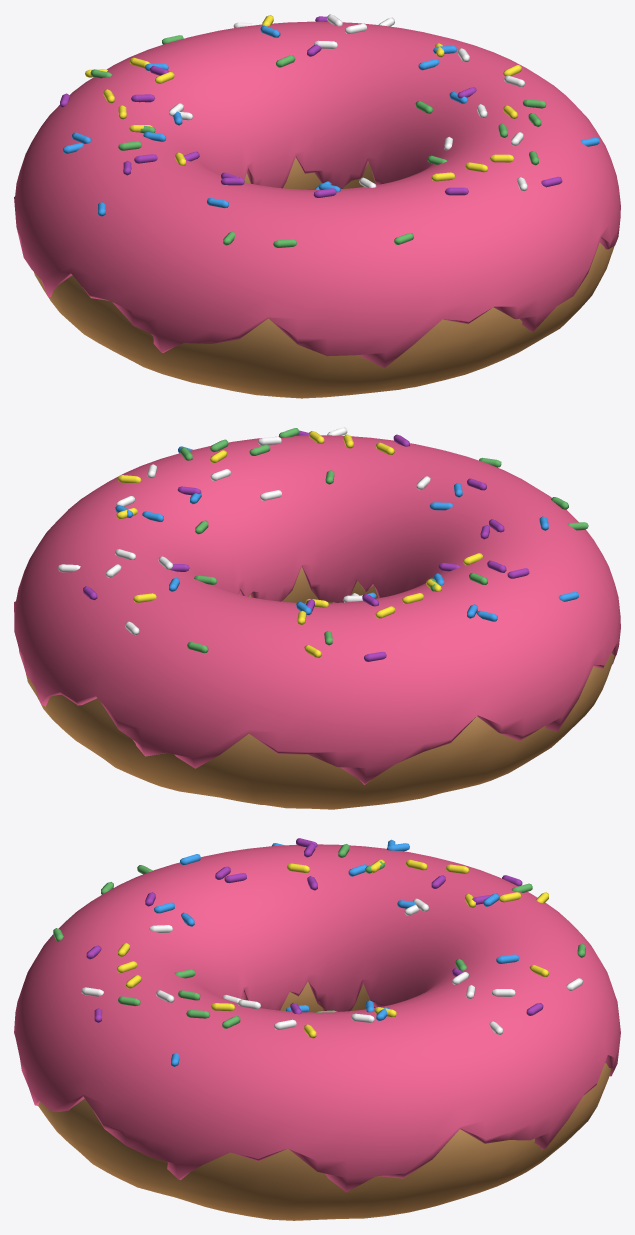
Rendered from donut.glb.
3 views of the same model, one above another, from view 1: azimuth 30°, elevation 25°; view 2: azimuth 150°, elevation 25°; view 3: azimuth 270°, elevation 25° (orthographic).
Parts seen in each view (by area): view 1: Icing, Dough, Sprinkles; view 2: Icing, Dough, Sprinkles; view 3: Icing, Dough, Sprinkles.
Part boxes in pixels (bbox=[...]): Icing: bbox=[14, 21, 620, 367]; Dough: bbox=[34, 157, 614, 398]; Sprinkles: bbox=[60, 14, 599, 247]; Icing: bbox=[14, 435, 620, 784]; Dough: bbox=[19, 567, 614, 809]; Sprinkles: bbox=[58, 427, 588, 661]; Icing: bbox=[14, 844, 620, 1192]; Dough: bbox=[38, 981, 610, 1220]; Sprinkles: bbox=[53, 838, 585, 1066].
Bounding box in the file's own units: 0.976 × 0.3494 × 0.976.
